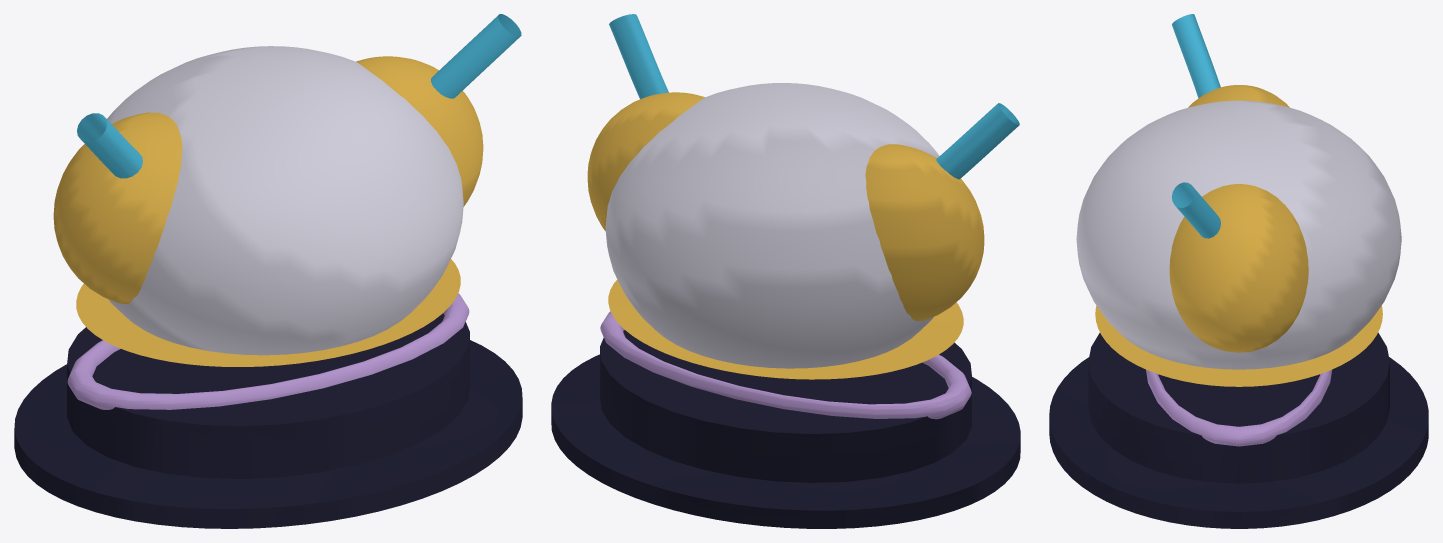
Rendered from 0186_人体图鉴_大肠.glb.
3 renders of one model, left to right at view 1: azimuth 30°, elevation 25°; view 2: azimuth 150°, elevation 25°; view 3: azimuth 270°, elevation 25°, orthographic. The views are drawn at different scales.
Parts seen in each view (by area): view 1: card_0186; view 2: card_0186; view 3: card_0186.
Boxes of the visible parts, box(x1,y1,x2,y2) form: card_0186: box(14, 14, 522, 528); card_0186: box(551, 14, 1020, 528); card_0186: box(1049, 14, 1428, 528).
Size of the model in its own units: 1.23 by 1 by 1.03.
